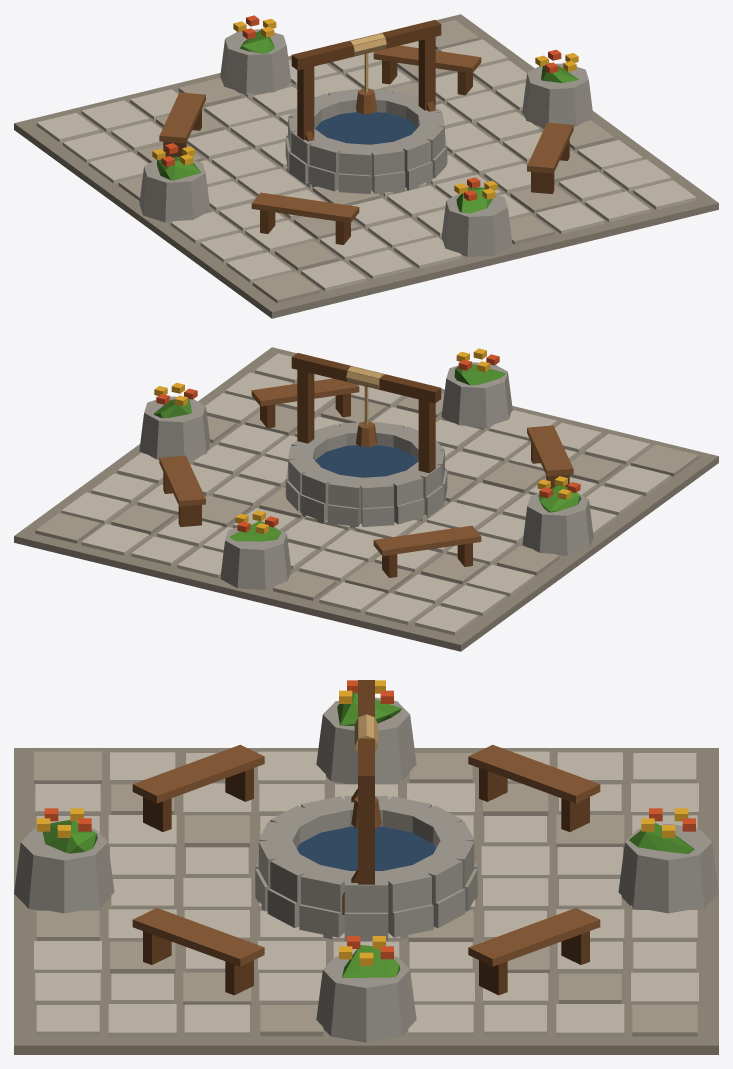
The model's file is plaza.glb.
3 views of the same model, one above another, from view 1: azimuth 30°, elevation 25°; view 2: azimuth 150°, elevation 25°; view 3: azimuth 270°, elevation 25° (orthographic). The views are drawn at different scales.
Visible parts, largest first — view 1: plaza_pflaster, plaza_stein, plaza_rand, plaza_pflaster_dunkel, plaza_balken, plaza_holz, plaza_wasser, plaza_gruen, plaza_gelb, plaza_rot, plaza_seil; view 2: plaza_pflaster, plaza_stein, plaza_rand, plaza_pflaster_dunkel, plaza_balken, plaza_holz, plaza_wasser, plaza_gruen, plaza_gelb, plaza_rot, plaza_seil; view 3: plaza_pflaster, plaza_stein, plaza_rand, plaza_pflaster_dunkel, plaza_holz, plaza_balken, plaza_gruen, plaza_wasser, plaza_gelb, plaza_rot, plaza_seil.
Part boxes in pixels (left/top/right/bottom): plaza_pflaster: left=36, top=39, right=696, bottom=291; plaza_stein: left=139, top=29, right=593, bottom=256; plaza_rand: left=14, top=14, right=718, bottom=318; plaza_pflaster_dunkel: left=118, top=20, right=614, bottom=303; plaza_balken: left=163, top=20, right=569, bottom=244; plaza_holz: left=159, top=45, right=573, bottom=223; plaza_wasser: left=315, top=112, right=417, bottom=144; plaza_gruen: left=157, top=30, right=578, bottom=213; plaza_gelb: left=152, top=18, right=578, bottom=199; plaza_rot: left=161, top=15, right=561, bottom=200; plaza_seil: left=348, top=33, right=386, bottom=92; plaza_pflaster: left=61, top=353, right=670, bottom=635; plaza_stein: left=139, top=362, right=593, bottom=589; plaza_rand: left=14, top=347, right=718, bottom=651; plaza_pflaster_dunkel: left=35, top=393, right=698, bottom=600; plaza_balken: left=163, top=353, right=569, bottom=577; plaza_holz: left=159, top=378, right=573, bottom=556; plaza_wasser: left=315, top=445, right=417, bottom=477; plaza_gruen: left=153, top=364, right=580, bottom=541; plaza_gelb: left=154, top=348, right=571, bottom=533; plaza_rot: left=156, top=354, right=580, bottom=532; plaza_seil: left=346, top=366, right=384, bottom=425; plaza_pflaster: left=34, top=751, right=698, bottom=1037; plaza_stein: left=14, top=697, right=718, bottom=1042; plaza_rand: left=14, top=748, right=718, bottom=1054; plaza_pflaster_dunkel: left=34, top=751, right=697, bottom=1036; plaza_holz: left=132, top=744, right=600, bottom=966; plaza_balken: left=143, top=680, right=589, bottom=995; plaza_gruen: left=42, top=692, right=694, bottom=977; plaza_wasser: left=297, top=826, right=435, bottom=870; plaza_gelb: left=37, top=680, right=688, bottom=965; plaza_rot: left=44, top=680, right=695, bottom=959; plaza_seil: left=354, top=714, right=378, bottom=752.
Bounding box in the file's own units: 4.2 × 1.19 × 4.2.
